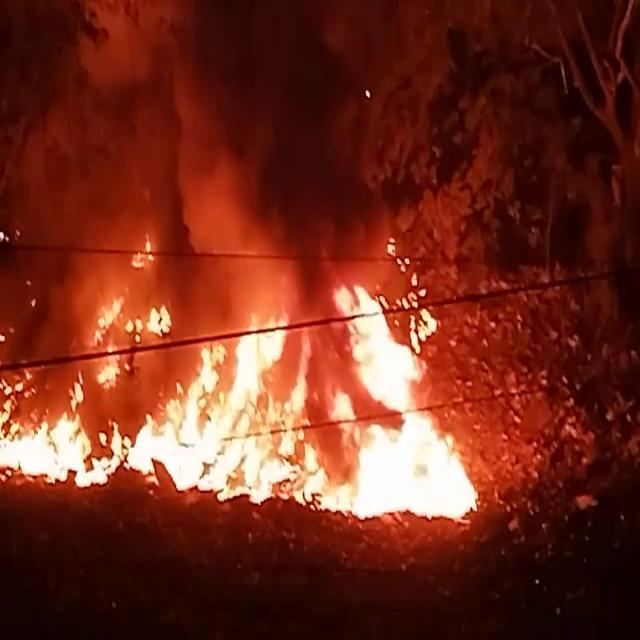Fire: (10, 298, 487, 517)
Smoke: (2, 0, 384, 295)
